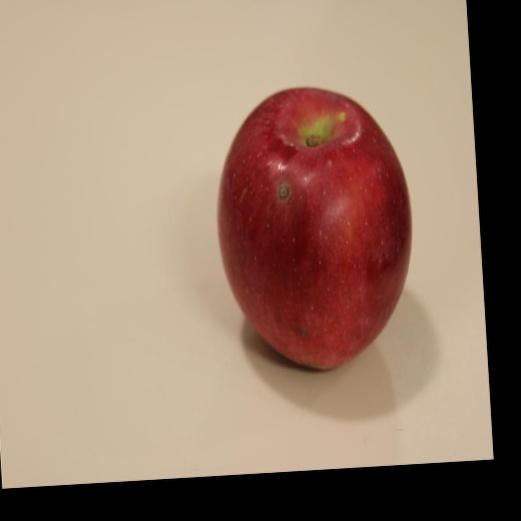red apple: (214, 84, 411, 371)
